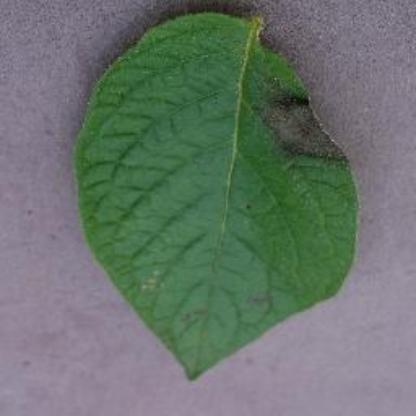Late-Blight: (68, 5, 364, 381)
